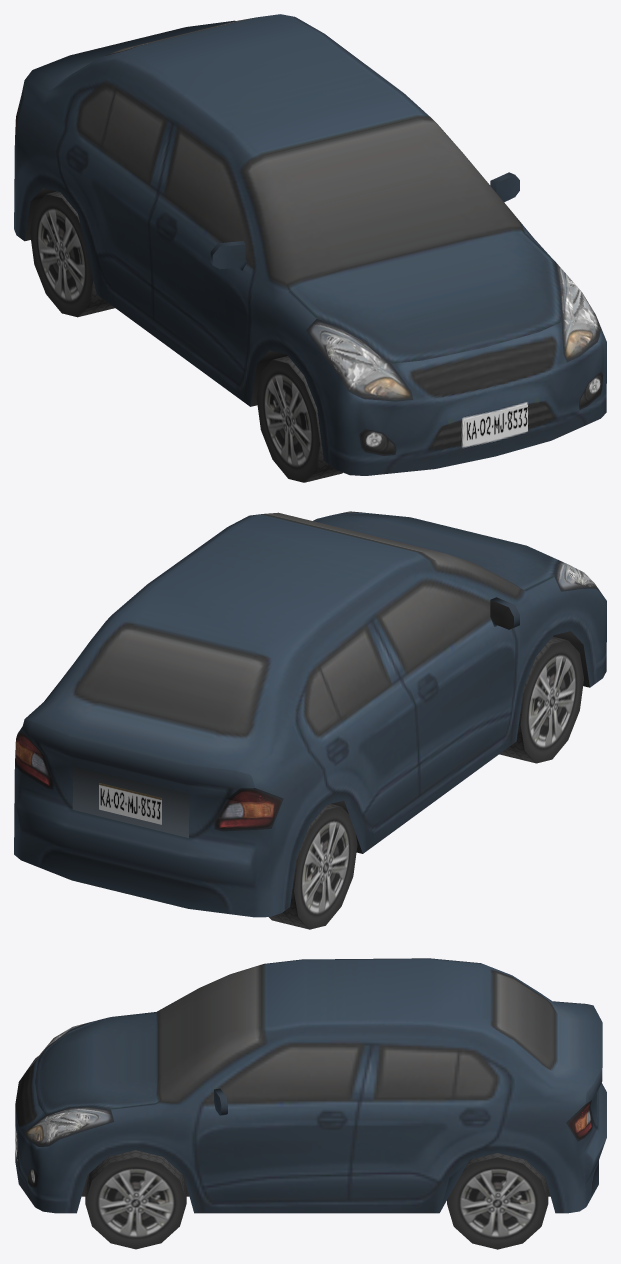
The model's file is swift_dzire_2012.glb.
3 views of the same model, one above another, from view 1: azimuth 30°, elevation 25°; view 2: azimuth 150°, elevation 25°; view 3: azimuth 270°, elevation 25° (orthographic). The views are drawn at different scales.
Parts seen in each view (by area): view 1: node_id614, node_id594, node_id630, node_id622, node_id610; view 2: node_id614, node_id630, node_id622, node_id598, node_id594, node_id602; view 3: node_id614, node_id626, node_id618, node_id594, node_id598, node_id606.
Part boxes in pixels (<box>): node_id614: <box>14,14,606,475</box>; node_id594: <box>306,261,603,455</box>; node_id630: <box>256,356,342,482</box>; node_id622: <box>30,191,114,317</box>; node_id610: <box>365,377,413,401</box>; node_id614: <box>14,512,606,917</box>; node_id630: <box>499,636,583,763</box>; node_id622: <box>269,804,357,929</box>; node_id598: <box>15,731,283,831</box>; node_id594: <box>341,511,600,591</box>; node_id602: <box>31,752,243,820</box>; node_id614: <box>15,958,606,1213</box>; node_id626: <box>85,1150,186,1249</box>; node_id618: <box>447,1153,548,1249</box>; node_id594: <box>28,1022,114,1188</box>; node_id598: <box>566,1100,592,1141</box>; node_id606: <box>24,1112,587,1141</box>.
Bounding box in the file's own units: 0.4315 × 0.3506 × 0.9026.
3 materials, 3 textured.
